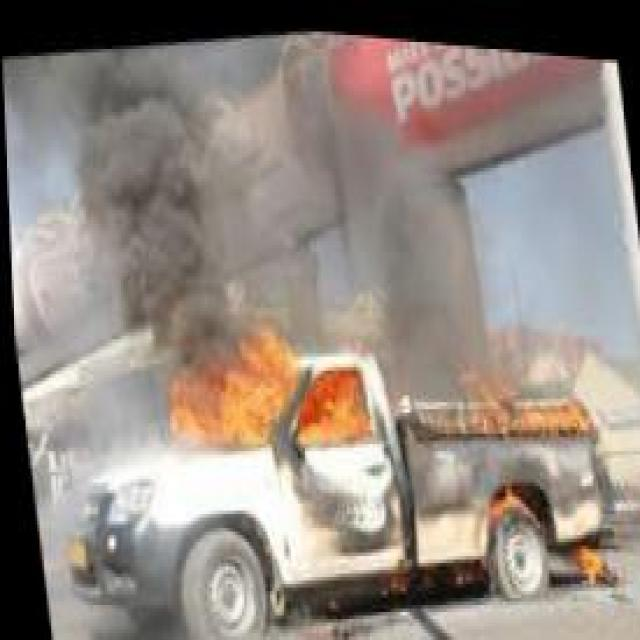Fire: (151, 290, 375, 479), (449, 332, 601, 451), (558, 504, 624, 584), (458, 458, 522, 535)
Smoke: (272, 21, 510, 367), (0, 17, 237, 353)
